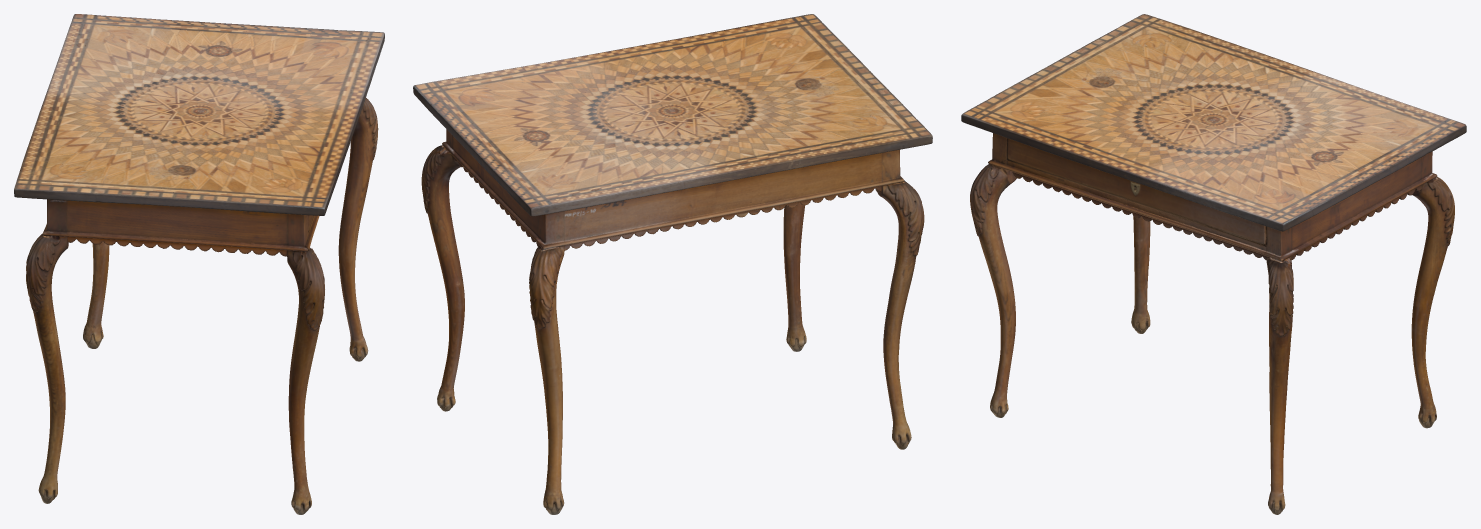
Rendered from marquetry_table.glb.
The picture shows the model from 3 angles, left to right: view 1: azimuth 30°, elevation 25°; view 2: azimuth 150°, elevation 25°; view 3: azimuth 270°, elevation 25°; orthographic projection. The views are drawn at different scales.
Parts seen in each view (by area): view 1: Object_2, Object_3, Object_4; view 2: Object_2, Object_3, Object_4; view 3: Object_2, Object_3, Object_4.
Boxes of the visible parts, x1=… form: Object_2: x1=20, y1=14, x2=383, y2=514; Object_3: x1=14, y1=14, x2=384, y2=514; Object_4: x1=14, y1=14, x2=384, y2=514; Object_2: x1=413, y1=19, x2=921, y2=514; Object_3: x1=416, y1=14, x2=932, y2=512; Object_4: x1=413, y1=14, x2=932, y2=514; Object_2: x1=971, y1=18, x2=1466, y2=504; Object_3: x1=961, y1=14, x2=1466, y2=514; Object_4: x1=962, y1=14, x2=1466, y2=514.
Size of the model in its own units: 1.22 by 0.8485 by 1.26.
1 material, 1 textured.
